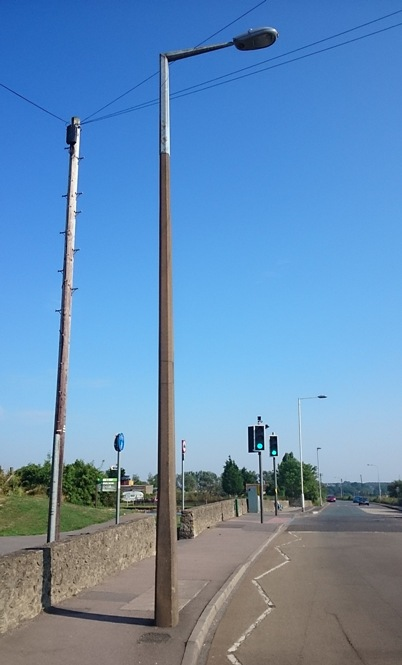light_pole: (150, 48, 186, 634), (47, 100, 84, 554), (291, 392, 314, 516)
